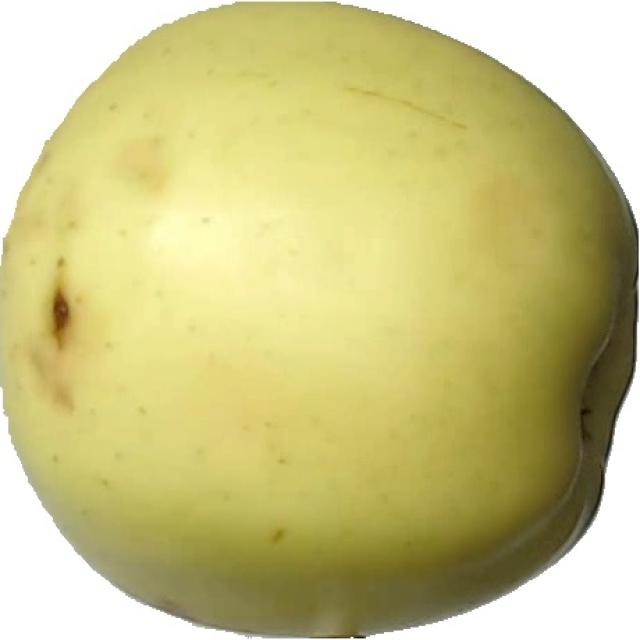Golden Elma: (3, 5, 640, 640)
